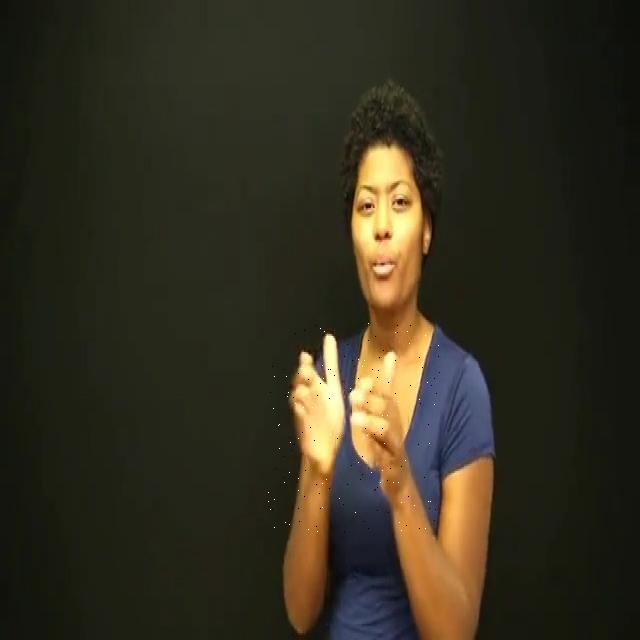small: (268, 323, 440, 532)
